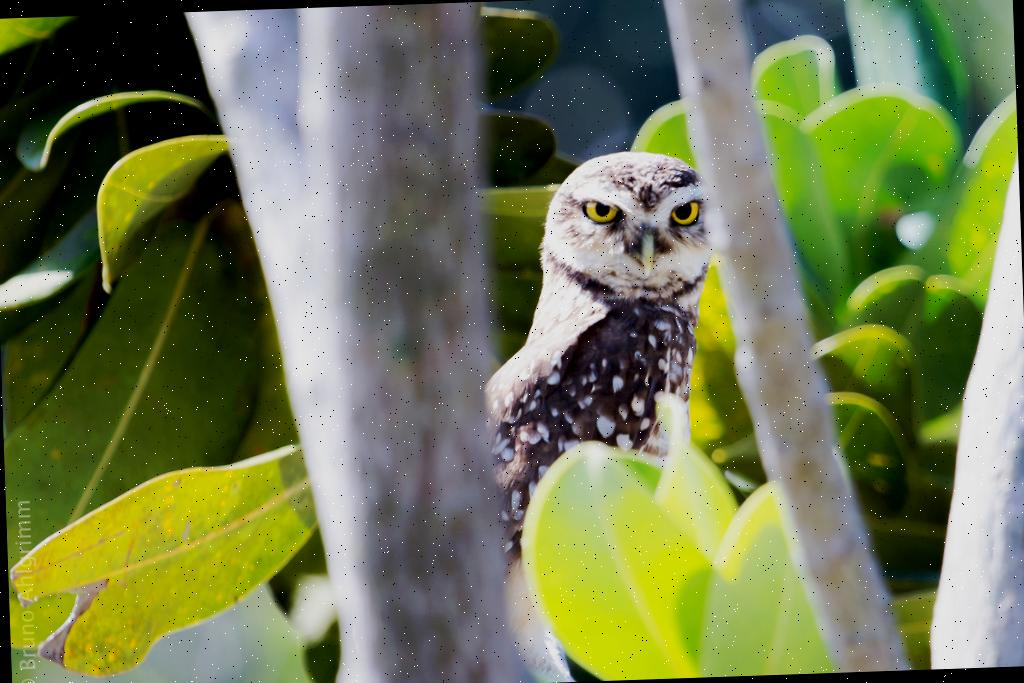Owl: (474, 148, 728, 566)
